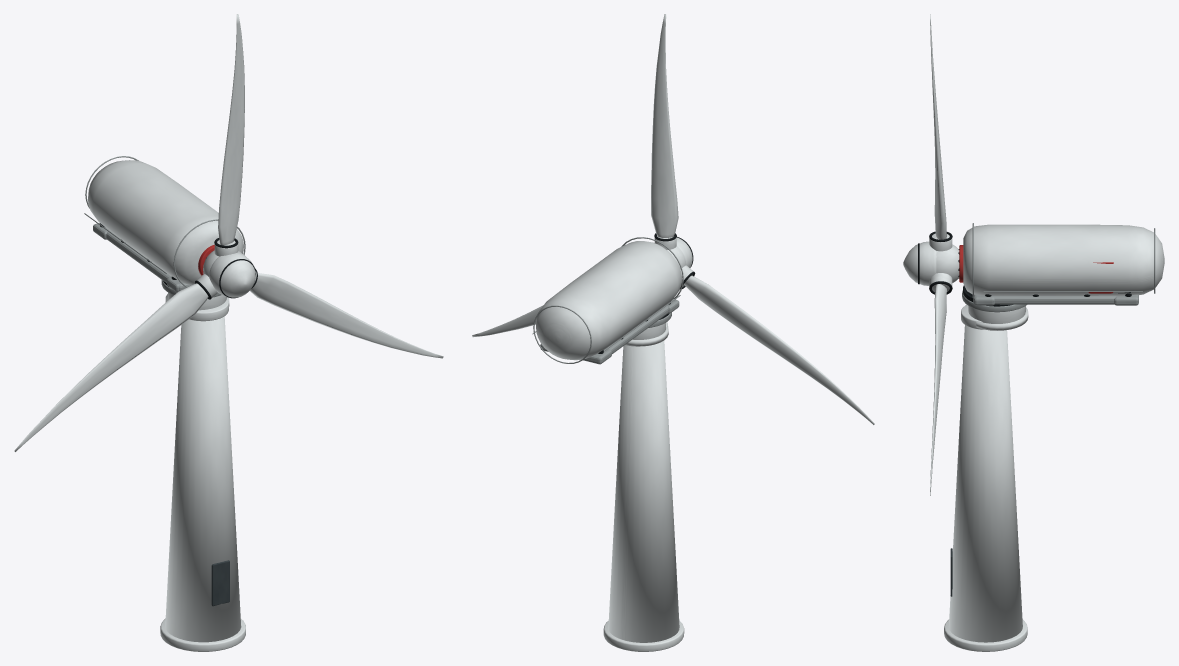
Rendered from C_dismantlable_turbine_v3_low_raw.glb.
3 renders of one model, left to right at view 1: azimuth 30°, elevation 25°; view 2: azimuth 150°, elevation 25°; view 3: azimuth 270°, elevation 25°, orthographic. The views are drawn at different scales.
Parts seen in each view (by area): view 1: PART__TOWER, PART__NACELLE_SHELL, PART__BLADE_C, PART__BLADE_B, PART__BLADE_A, PART__SPINNER, PART__HUB, PART__BEDPLATE; view 2: PART__TOWER, PART__NACELLE_SHELL, PART__BLADE_A, PART__BLADE_C, PART__BEDPLATE, PART__YAW_BASE, PART__HUB, PART__BLADE_B; view 3: PART__TOWER, PART__NACELLE_SHELL, PART__BEDPLATE, PART__HUB, PART__YAW_BASE, PART__BLADE_B, PART__BLADE_A, PART__SPINNER.
Part boxes in pixels (x1,y1,x2,y2): PART__TOWER: [160, 298, 245, 651]; PART__NACELLE_SHELL: [84, 156, 245, 287]; PART__BLADE_C: [14, 283, 208, 451]; PART__BLADE_B: [250, 273, 443, 358]; PART__BLADE_A: [218, 14, 244, 245]; PART__SPINNER: [209, 252, 255, 297]; PART__HUB: [195, 238, 257, 299]; PART__BEDPLATE: [93, 223, 190, 292]; PART__TOWER: [603, 322, 684, 651]; PART__NACELLE_SHELL: [532, 237, 683, 363]; PART__BLADE_A: [651, 14, 678, 237]; PART__BLADE_C: [684, 275, 874, 424]; PART__BEDPLATE: [540, 299, 679, 364]; PART__YAW_BASE: [625, 312, 671, 346]; PART__HUB: [654, 233, 695, 289]; PART__BLADE_B: [472, 305, 543, 337]; PART__TOWER: [944, 305, 1027, 651]; PART__NACELLE_SHELL: [963, 223, 1164, 297]; PART__BEDPLATE: [973, 293, 1138, 305]; PART__HUB: [918, 231, 959, 294]; PART__YAW_BASE: [962, 290, 1028, 330]; PART__BLADE_B: [930, 284, 946, 495]; PART__BLADE_A: [930, 14, 946, 239]; PART__SPINNER: [903, 241, 936, 285].
Bounding box in the file's own units: 7.73 × 11 × 4.18.
Materials: 1 (1 with a texture image).
